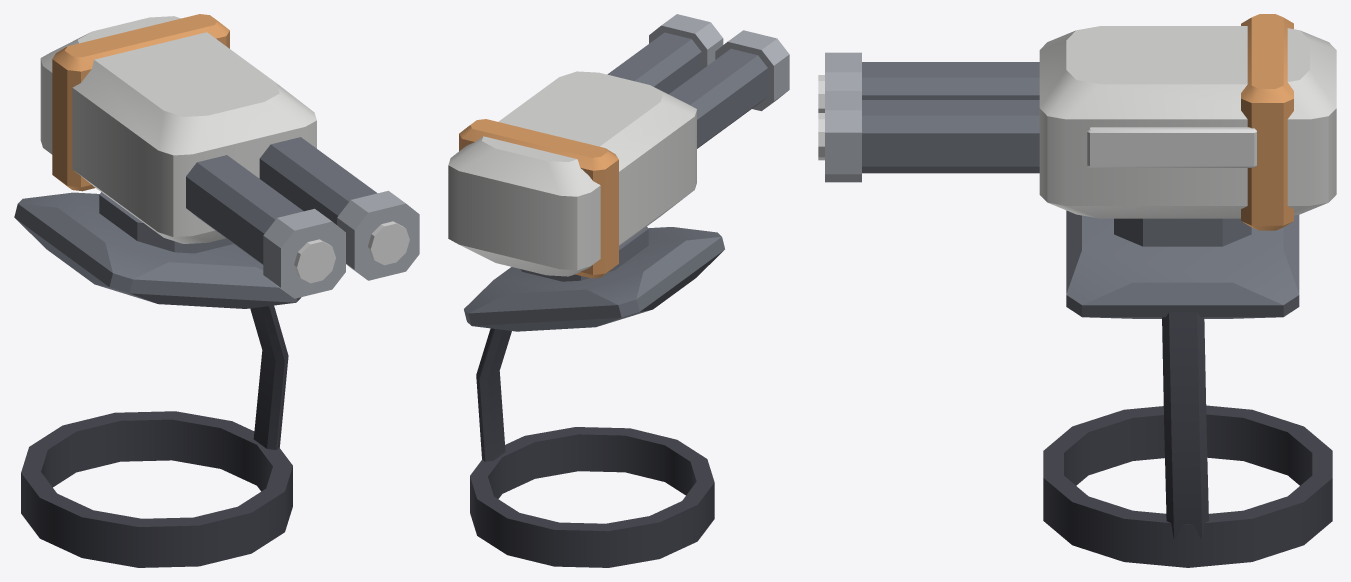
The model's file is gear_module_canon.glb.
3 views of the same model, side by side, from view 1: azimuth 30°, elevation 25°; view 2: azimuth 150°, elevation 25°; view 3: azimuth 270°, elevation 25° (orthographic). The views are drawn at different scales.
Parts seen in each view (by area): view 1: arm_l__module_canon, arm_l__module_canon_selle, arm_l__module_canon_glow; view 2: arm_l__module_canon, arm_l__module_canon_selle; view 3: arm_l__module_canon, arm_l__module_canon_selle, arm_l__module_canon_glow.
Boxes of the visible parts, <box> form: arm_l__module_canon: <box>40,14,419,298</box>; arm_l__module_canon_selle: <box>14,192,301,567</box>; arm_l__module_canon_glow: <box>294,221,409,283</box>; arm_l__module_canon: <box>448,14,789,281</box>; arm_l__module_canon_selle: <box>464,227,724,567</box>; arm_l__module_canon: <box>825,14,1336,246</box>; arm_l__module_canon_selle: <box>1043,210,1332,567</box>; arm_l__module_canon_glow: <box>818,75,1256,167</box>.
Size of the model in its own units: 0.111 by 0.1945 by 0.1955.
